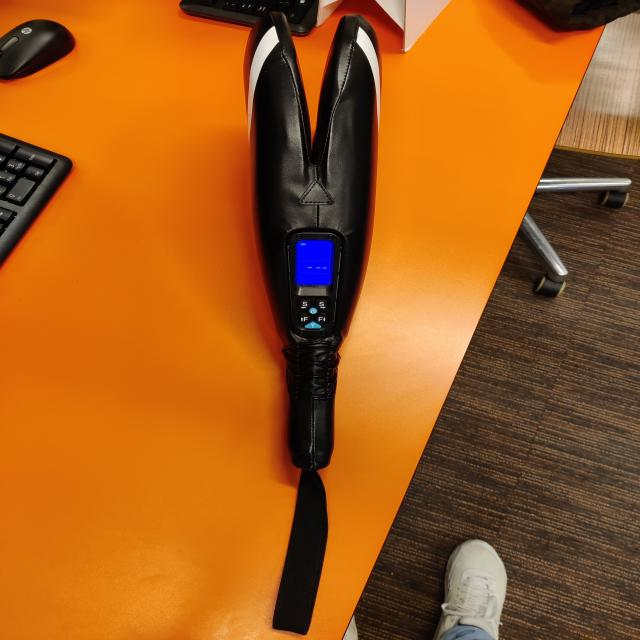paddle: (242, 9, 388, 471)
